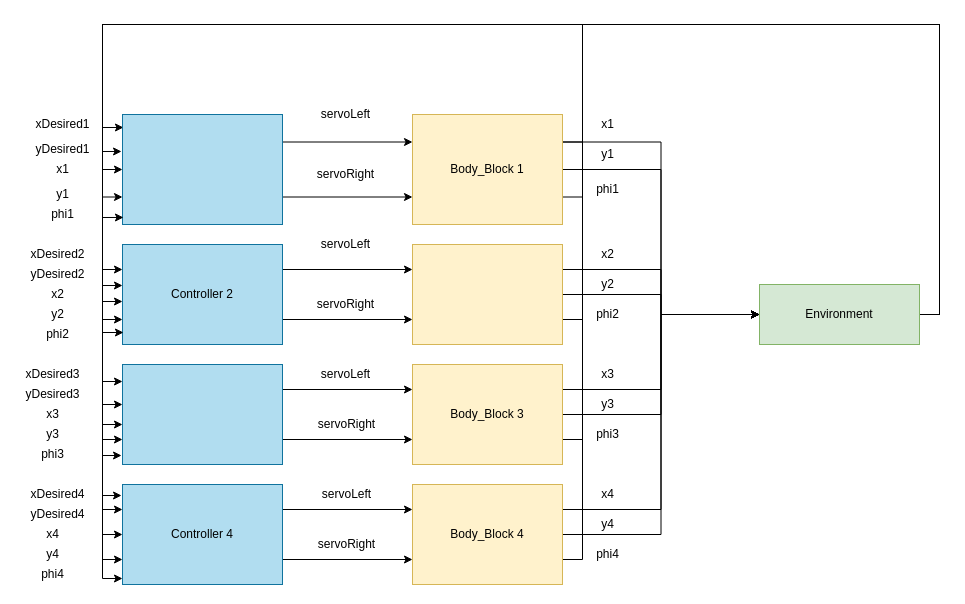
Some shapes in this 965 by 604 pixel diagram are drawn without their labels. The shapes that lost their labels are listed below. From the top down, each one's centre as x and y in pixels, then its label:
At [202,169]: "Controller 1".
At [487,294]: "Body_Block 2".
At [202,414]: "Controller 3".
